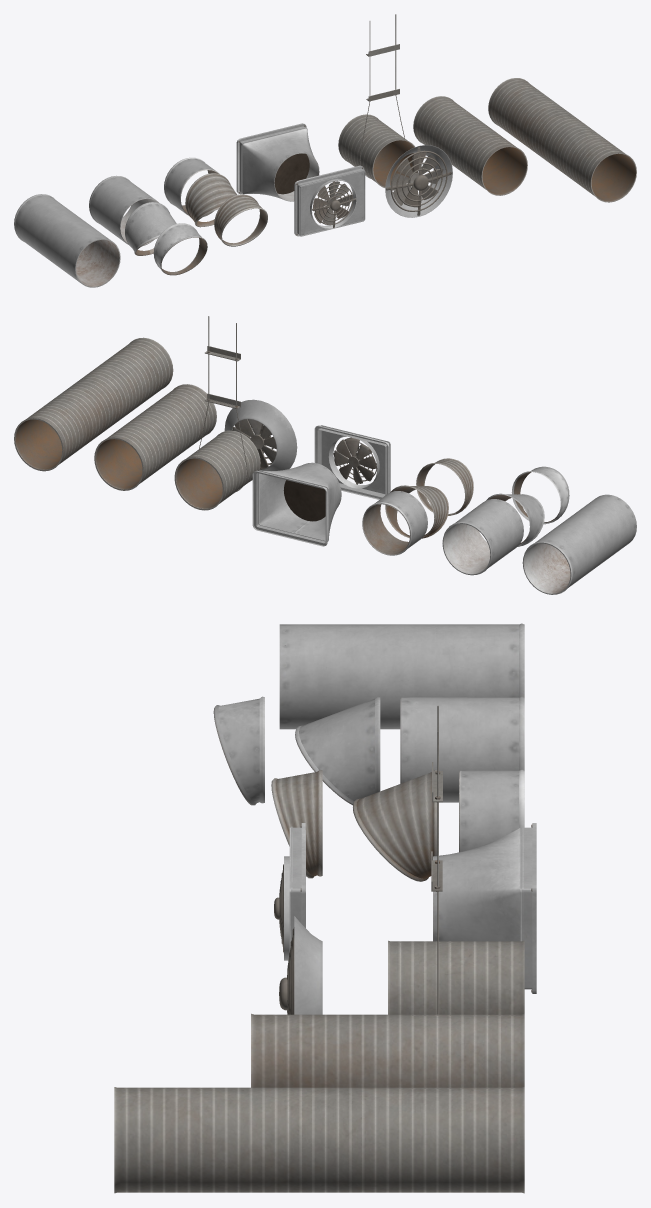
3 renders of one model, top to bottom at view 1: azimuth 30°, elevation 25°; view 2: azimuth 150°, elevation 25°; view 3: azimuth 270°, elevation 25°, orthographic. The views are drawn at different scales.
Parts seen in each view (by area): view 1: modular_airduct_circular_triple, modular_airduct_circular_double, modular_airduct_circular_smooth_triple, modular_airduct_rectangular_converter, modular_airduct_rectangular_vent_fan, modular_airduct_circular_fan, modular_airduct_circular_single, modular_airduct_circular_smooth_double, modular_airduct_circular_bend_half, modular_airduct_circular_smooth_bend_half, modular_airduct_circular_bend_quater, modular_airduct_circular_smooth_bend_quater (+1 smaller); view 2: modular_airduct_circular_triple, modular_airduct_circular_double, modular_airduct_circular_smooth_triple, modular_airduct_rectangular_converter, modular_airduct_circular_single, modular_airduct_circular_smooth_double, modular_airduct_rectangular_vent_fan, modular_airduct_circular_fan, modular_airduct_circular_smooth_single, modular_airduct_circular_bend_half, modular_airduct_circular_bend_quater, modular_airduct_circular_smooth_bend_quater (+2 smaller); view 3: modular_airduct_circular_triple, modular_airduct_circular_smooth_triple, modular_airduct_circular_double, modular_airduct_rectangular_converter, modular_airduct_circular_single, modular_airduct_circular_smooth_double, modular_airduct_circular_smooth_bend_half, modular_airduct_circular_bend_half, modular_airduct_circular_smooth_single, modular_airduct_circular_smooth_bend_quater, modular_airduct_circular_bend_quater, modular_airduct_circular_fan (+1 smaller).
Part boxes in pixels (x1=…): modular_airduct_circular_triple: x1=488, y1=78, x2=636, y2=202; modular_airduct_circular_double: x1=413, y1=96, x2=527, y2=195; modular_airduct_circular_smooth_triple: x1=14, y1=194, x2=120, y2=287; modular_airduct_rectangular_converter: x1=236, y1=123, x2=319, y2=201; modular_airduct_rectangular_vent_fan: x1=294, y1=165, x2=365, y2=236; modular_airduct_circular_fan: x1=385, y1=145, x2=452, y2=217; modular_airduct_circular_single: x1=338, y1=114, x2=414, y2=187; modular_airduct_circular_smooth_double: x1=89, y1=175, x2=158, y2=246; modular_airduct_circular_bend_half: x1=185, y1=173, x2=236, y2=227; modular_airduct_circular_smooth_bend_half: x1=125, y1=202, x2=176, y2=255; modular_airduct_circular_bend_quater: x1=214, y1=194, x2=267, y2=246; modular_airduct_circular_smooth_bend_quater: x1=153, y1=223, x2=207, y2=275; modular_airduct_circular_triple: x1=14, y1=337, x2=173, y2=471; modular_airduct_circular_double: x1=94, y1=384, x2=216, y2=490; modular_airduct_circular_smooth_triple: x1=522, y1=494, x2=636, y2=594; modular_airduct_rectangular_converter: x1=252, y1=462, x2=341, y2=546; modular_airduct_circular_single: x1=174, y1=430, x2=260, y2=510; modular_airduct_circular_smooth_double: x1=442, y1=499, x2=523, y2=575; modular_airduct_rectangular_vent_fan: x1=314, y1=425, x2=390, y2=499; modular_airduct_circular_fan: x1=224, y1=399, x2=297, y2=470; modular_airduct_circular_smooth_single: x1=362, y1=491, x2=427, y2=555; modular_airduct_circular_bend_half: x1=385, y1=485, x2=448, y2=538; modular_airduct_circular_bend_quater: x1=416, y1=458, x2=473, y2=515; modular_airduct_circular_smooth_bend_quater: x1=511, y1=466, x2=569, y2=524; modular_airduct_circular_triple: x1=114, y1=1087, x2=524, y2=1193; modular_airduct_circular_smooth_triple: x1=279, y1=623, x2=524, y2=729; modular_airduct_circular_double: x1=251, y1=1013, x2=524, y2=1087; modular_airduct_rectangular_converter: x1=433, y1=823, x2=536, y2=993; modular_airduct_circular_single: x1=388, y1=940, x2=524, y2=1014; modular_airduct_circular_smooth_double: x1=400, y1=696, x2=524, y2=802; modular_airduct_circular_smooth_bend_half: x1=295, y1=696, x2=380, y2=805; modular_airduct_circular_bend_half: x1=353, y1=769, x2=437, y2=881; modular_airduct_circular_smooth_single: x1=459, y1=770, x2=524, y2=852; modular_airduct_circular_smooth_bend_quater: x1=213, y1=696, x2=264, y2=805; modular_airduct_circular_bend_quater: x1=271, y1=770, x2=322, y2=878; modular_airduct_circular_fan: x1=279, y1=916, x2=322, y2=1014.
Bounding box in the file's own units: 4.17 × 1.32 × 1.46.
2 materials, 2 textured.
